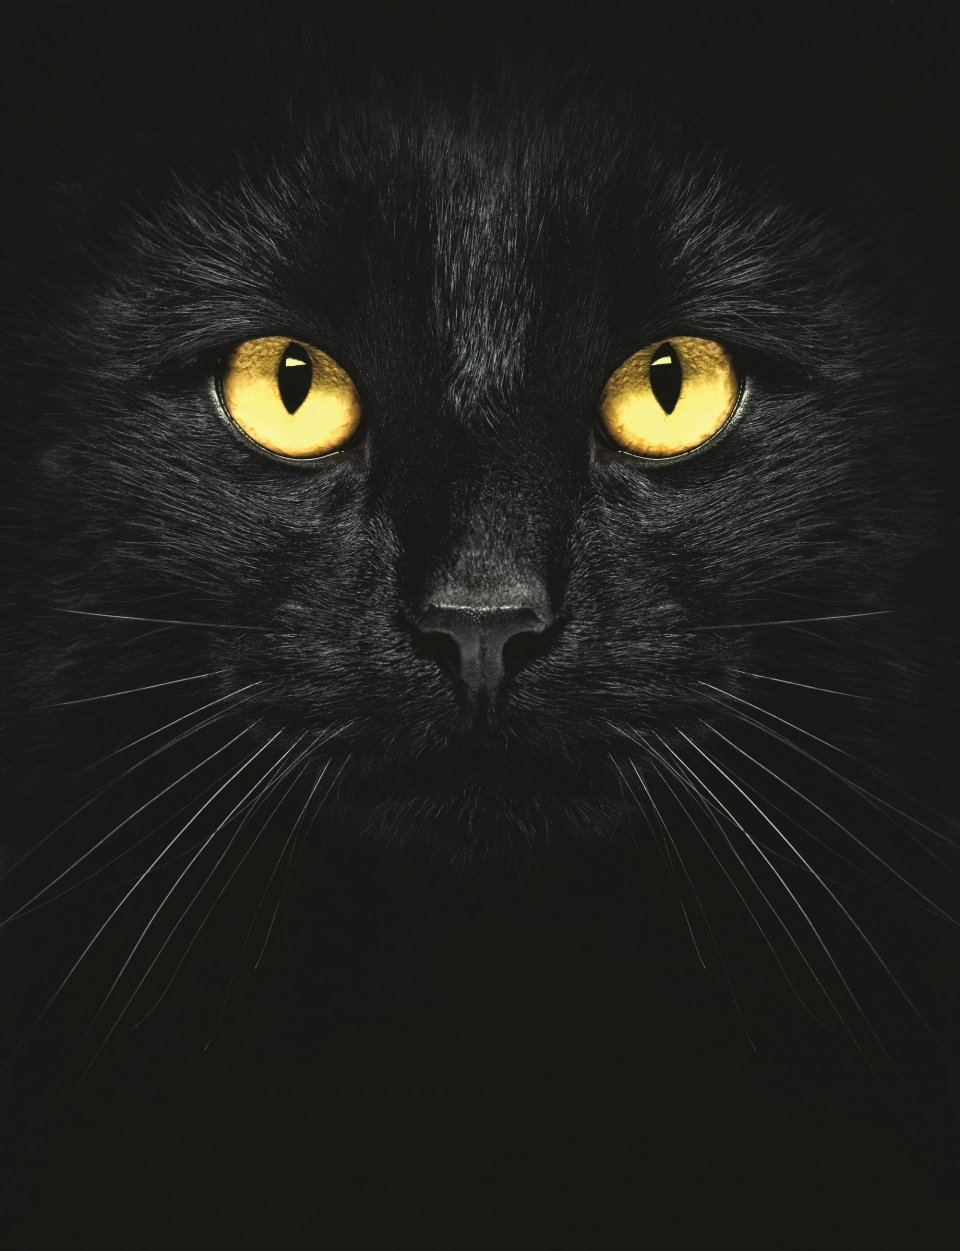cat: (3, 14, 960, 1229)
cat-face: (31, 32, 932, 877)
